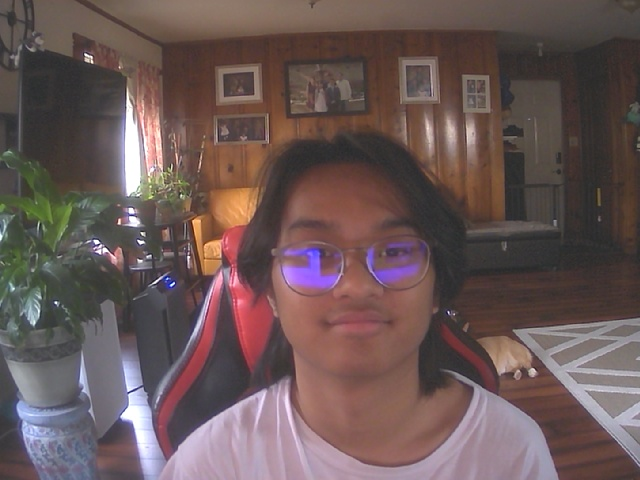happy: (253, 134, 445, 375)
